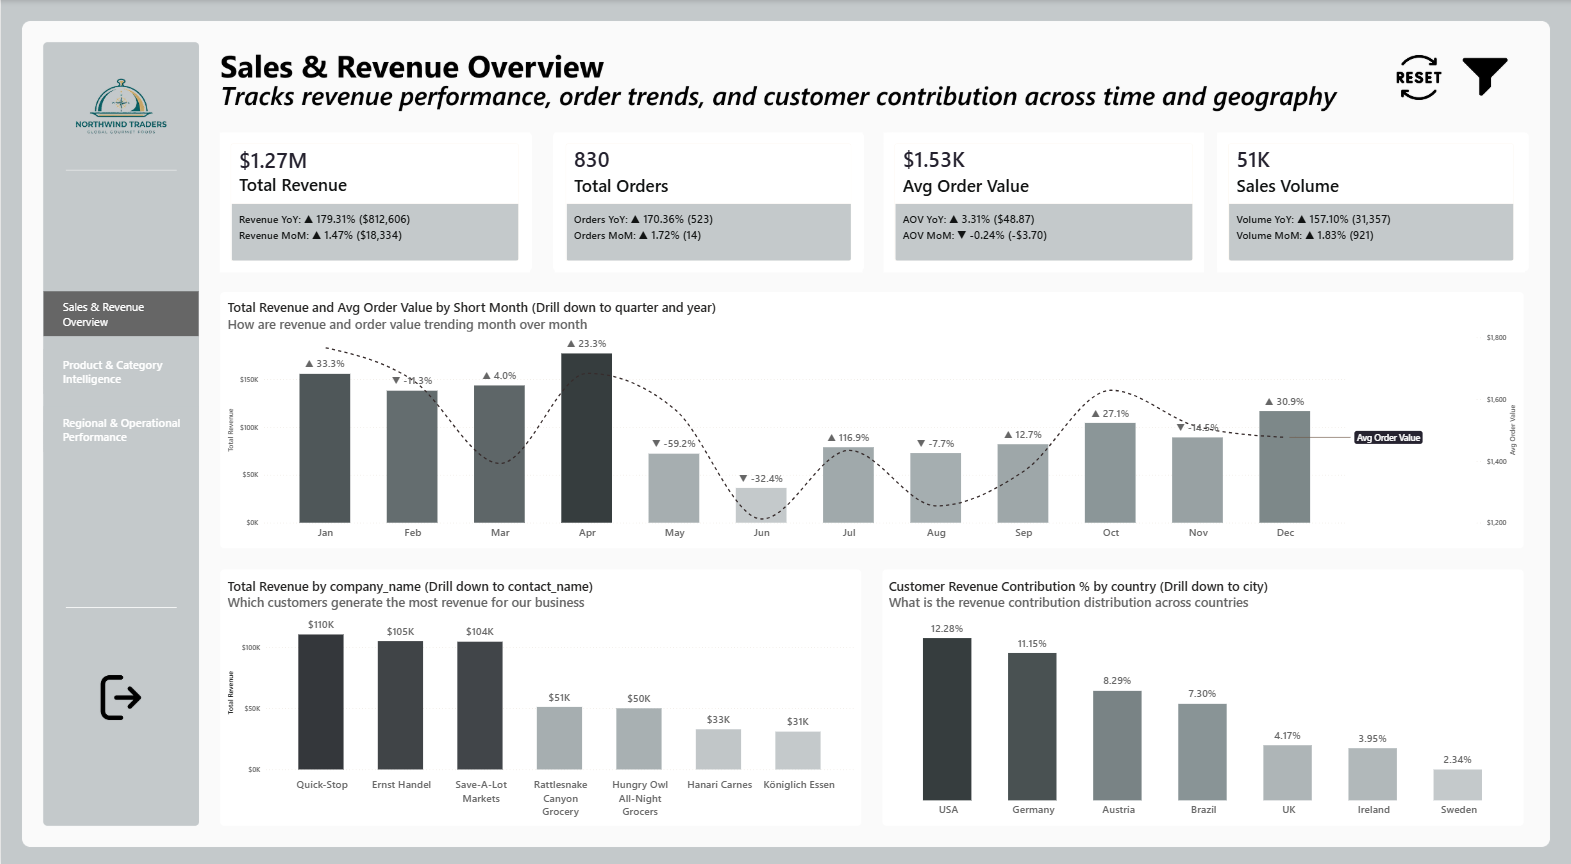

The dashboard page shown, as its layout file describes it:
{"tool":"powerbi","page":{"name":"Sales & Revenue      Overview","canvas":[2449,1355],"ordinal":0},"visuals":[{"type":"lineClusteredColumnComboChart","title":"Total Revenue and Avg Order Value by Short Month (Drill down to quarter and year)","fields":{"Category":["date.Short Month","date.Quarter","date.Year"],"Y":["Calculated Measures.Total Revenue"],"Y2":["Calculated Measures.Avg Order Value"]},"box":[343.2,454.4,2034.1,401.7],"z":0},{"type":"clusteredColumnChart","title":"Customer Revenue Contribution % by country (Drill down to city)","fields":{"Category":["customer.country","customer.city"],"Y":["Calculated Measures.Customer Revenue Contribution %"]},"box":[1375,890,1002.5,400],"z":1000},{"type":"cardVisual","fields":{"Data":["Calculated Measures.Total Revenue"]},"box":[342,206,484,218],"z":2000},{"type":"cardVisual","fields":{"Data":["Calculated Measures.Total Orders"]},"box":[864,206,480,218],"z":3000},{"type":"cardVisual","fields":{"Data":["Calculated Measures.Avg Order Value"]},"box":[1376,206,500,218],"z":4000},{"type":"cardVisual","fields":{"Data":["Calculated Measures.Sales Volume"]},"box":[1898,206,480,218],"z":5000},{"type":"clusteredColumnChart","title":"Total Revenue by company_name (Drill down to contact_name)","fields":{"Category":["customer.company_name","customer.contact_name"],"Y":["Calculated Measures.Total Revenue"]},"box":[343.2,889.3,998.5,399.8],"z":6000},{"type":"shape","box":[2262.8,74.9,100.6,84.2],"z":7000},{"type":"actionButton","title":"Slicer reset","box":[2162,74,100,84],"z":8000},{"type":"pageNavigator","box":[66,454,242,250],"z":10000},{"type":"actionButton","title":"Back button","box":[132,1046,100,84],"z":11000}]}

Visuals, with their boxes in screenshot pixels (x1, y1, x2, y2), scaled from the page's 2449x1355 canvas onto the 1571x864 screenshot:
"Total Revenue and Avg Order Value by Short Month (Drill down to quarter and year)" lineClusteredColumnComboChart: l=220, t=290, r=1525, b=546
"Customer Revenue Contribution % by country (Drill down to city)" clusteredColumnChart: l=882, t=567, r=1525, b=823
cardVisual - Calculated Measures.Total Revenue: l=219, t=131, r=530, b=270
cardVisual - Calculated Measures.Total Orders: l=554, t=131, r=862, b=270
cardVisual - Calculated Measures.Avg Order Value: l=883, t=131, r=1203, b=270
cardVisual - Calculated Measures.Sales Volume: l=1218, t=131, r=1525, b=270
"Total Revenue by company_name (Drill down to contact_name)" clusteredColumnChart: l=220, t=567, r=861, b=822
shape: l=1452, t=48, r=1516, b=101
"Slicer reset" actionButton: l=1387, t=47, r=1451, b=101
pageNavigator: l=42, t=289, r=198, b=449
"Back button" actionButton: l=85, t=667, r=149, b=721
